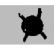not correct: (14, 8, 50, 42)
